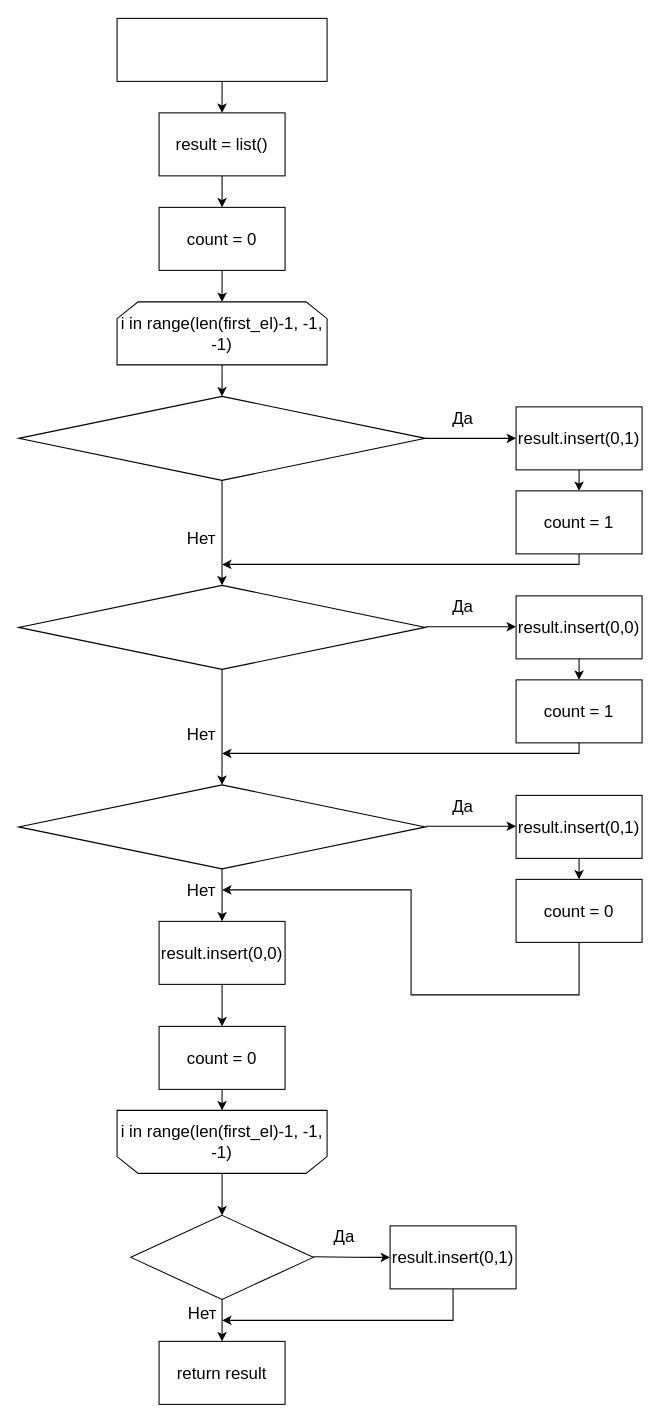
Image size: 660x1423. Some labels were removed from this diagram. The centre of each missing label's shape, as x and y in pixels:
count == 1: [221,1256]
int(first_el[i] + int(second_el[i])+count == 1): [221,826]
int(first_el[i] + int(second_el[i])+count == 2): [221,626]
int(first_el[i] + int(second_el[i])+count == 3): [221,437]
interval(first_el, second_el): [221,49]
